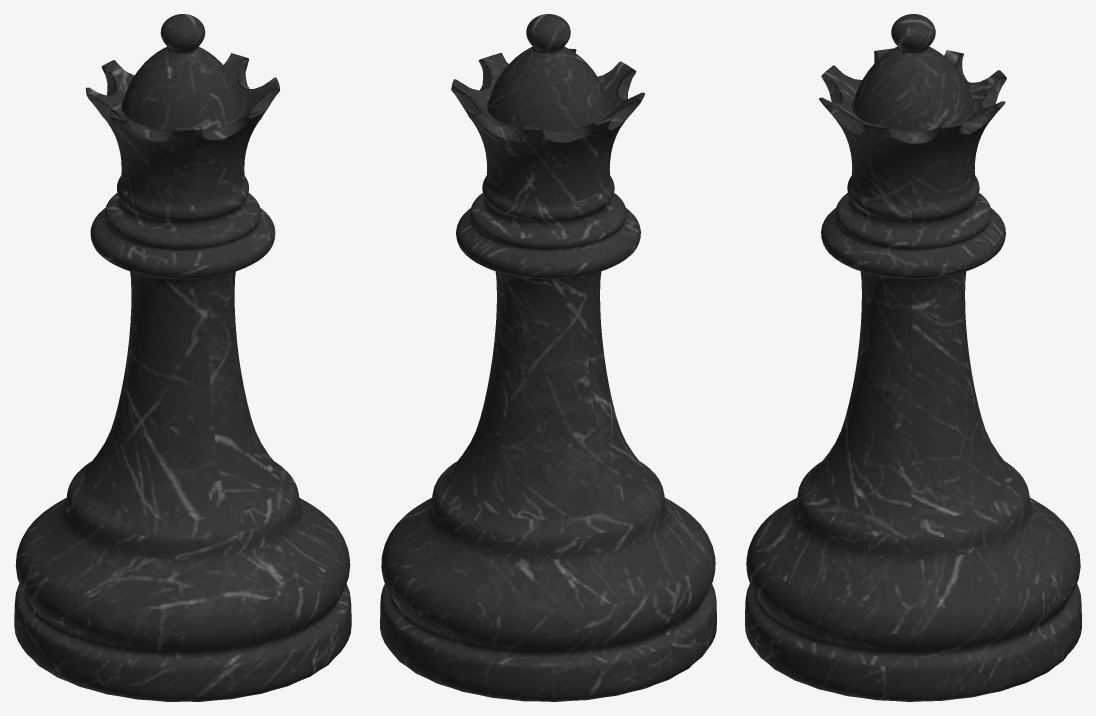
File: BQueen.glb
3 views of the same model, side by side, from view 1: azimuth 30°, elevation 25°; view 2: azimuth 150°, elevation 25°; view 3: azimuth 270°, elevation 25° (orthographic).
Parts seen in each view (by area): view 1: Circle; view 2: Circle; view 3: Circle.
Boxes of the visible parts, x1=… form: Circle: x1=14, y1=14, x2=351, y2=701; Circle: x1=380, y1=14, x2=716, y2=701; Circle: x1=745, y1=14, x2=1081, y2=701.
Bounding box in the file's own units: 3.27 × 6.63 × 3.27.
1 material, 1 textured.
